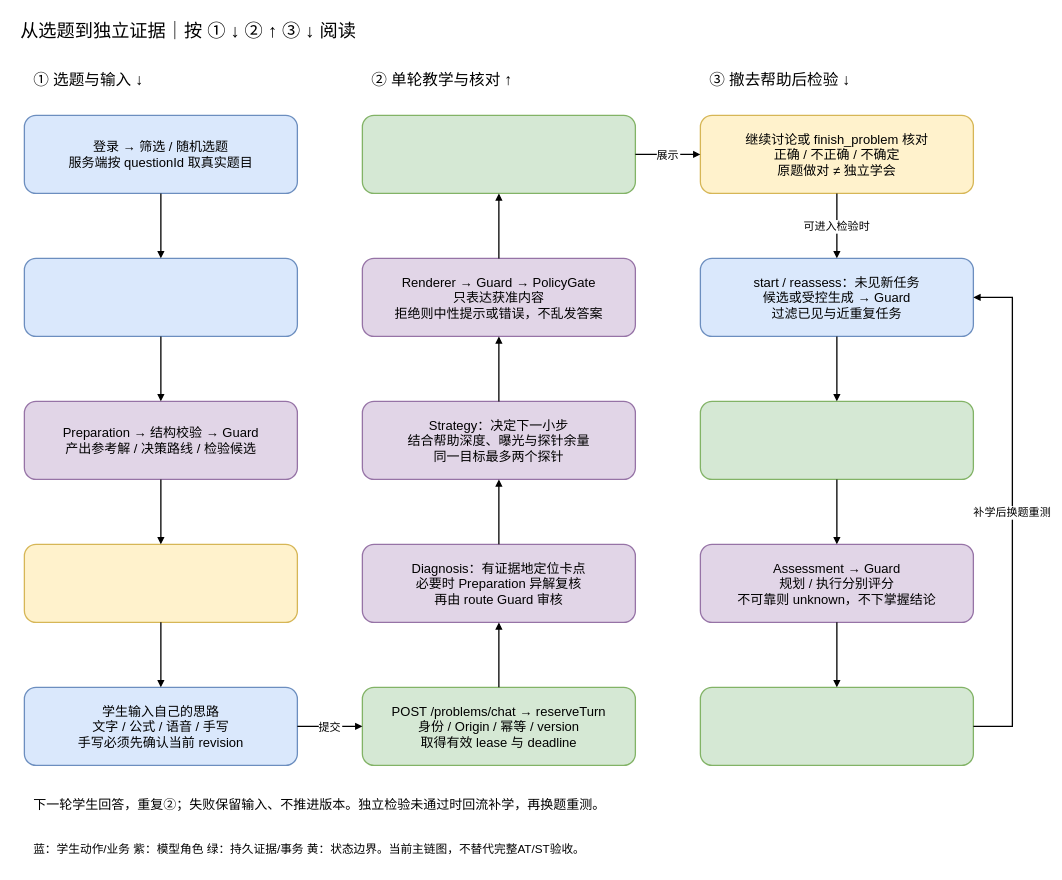
Image size: 1062x880. Some labels were removed from this diagram. Each missing label, with the box of its shape:
commitTurn 最终事务复查 保存消息 / 曝光 / 探针 / 状态 成功后才发 chunk + done(version): (361, 114, 636, 194)
POST /problems/analyze 题图必要时先转写 公开读题 + 私有备课可并行: (23, 257, 298, 337)
代码计算本次独立通过 → 报告 首次见 + 近迁移 + 无求助/曝光 + 有效 规划与执行都正确；历史 / owner删除: (699, 686, 974, 766)
绑定 packetVersion 并建会话 未 ready 也可能建会话，但受限 不换简单题，不伪称准备成功: (23, 543, 298, 623)
首次计划 → lockPlan 随后作答 → freezeAnswer 请求帮助、实际曝光分别记账: (699, 400, 974, 480)
